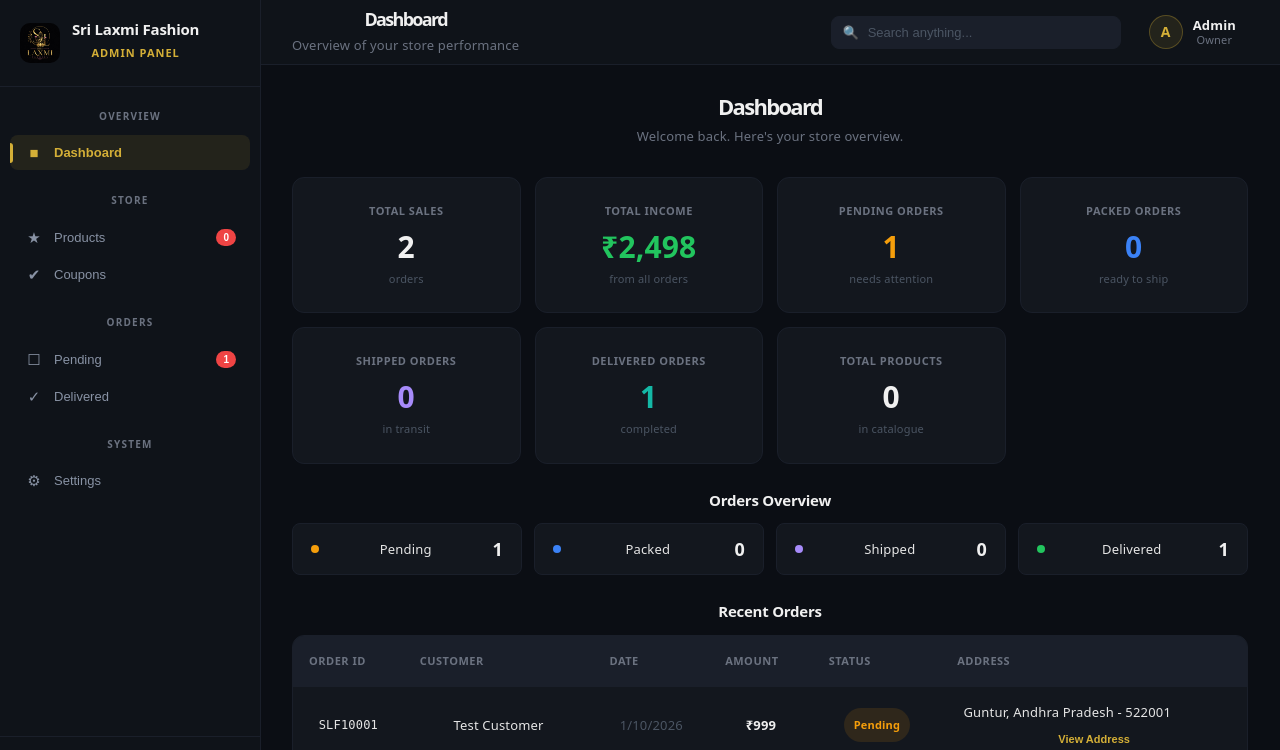
Test: Dashboard → Recent Orders: delivery address access › only expands the row that was clicked
The width and height of the screenshot is (1280, 750).
Click the button "View Address" at [1094, 739], box [1058, 733, 1130, 745]
(page scrolled)
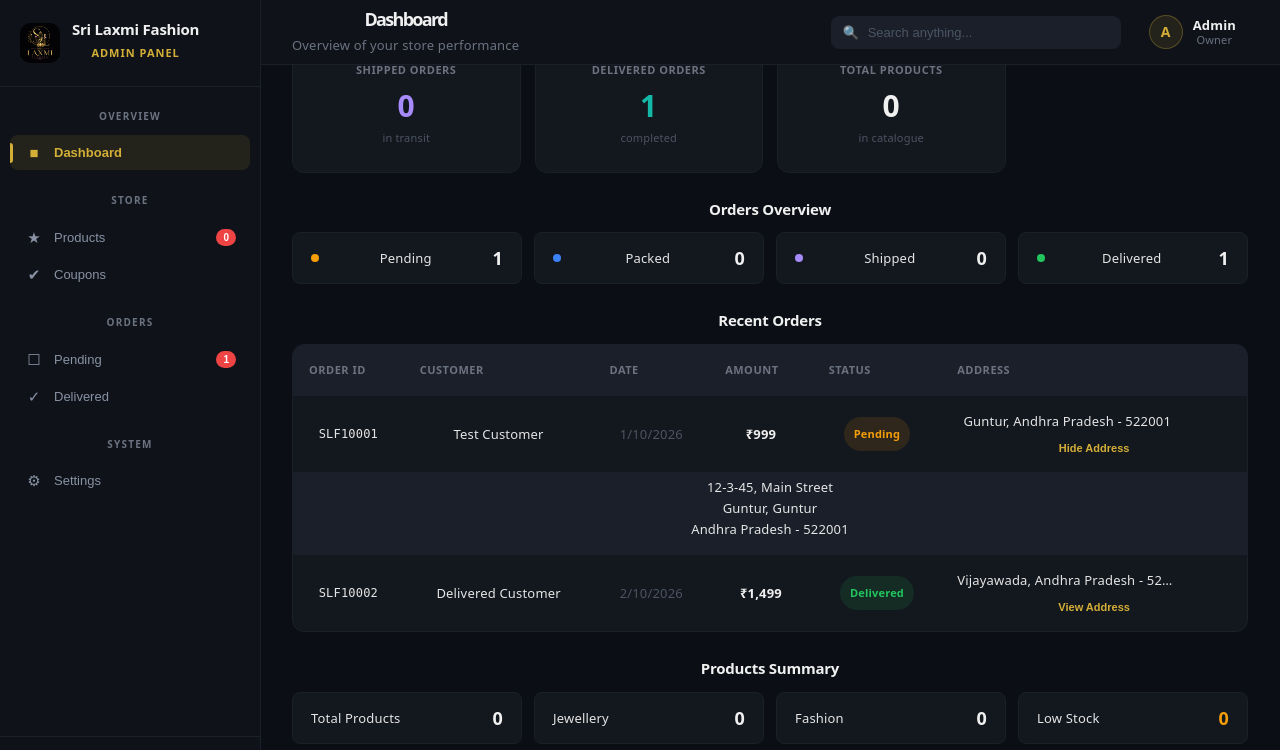
Expected: the number of elements with class "db-address-details" is 1, [691, 478, 849, 538]
Expected: the element with class "db-address-details" shows "12-3-45, Main Street", [707, 478, 833, 496]
